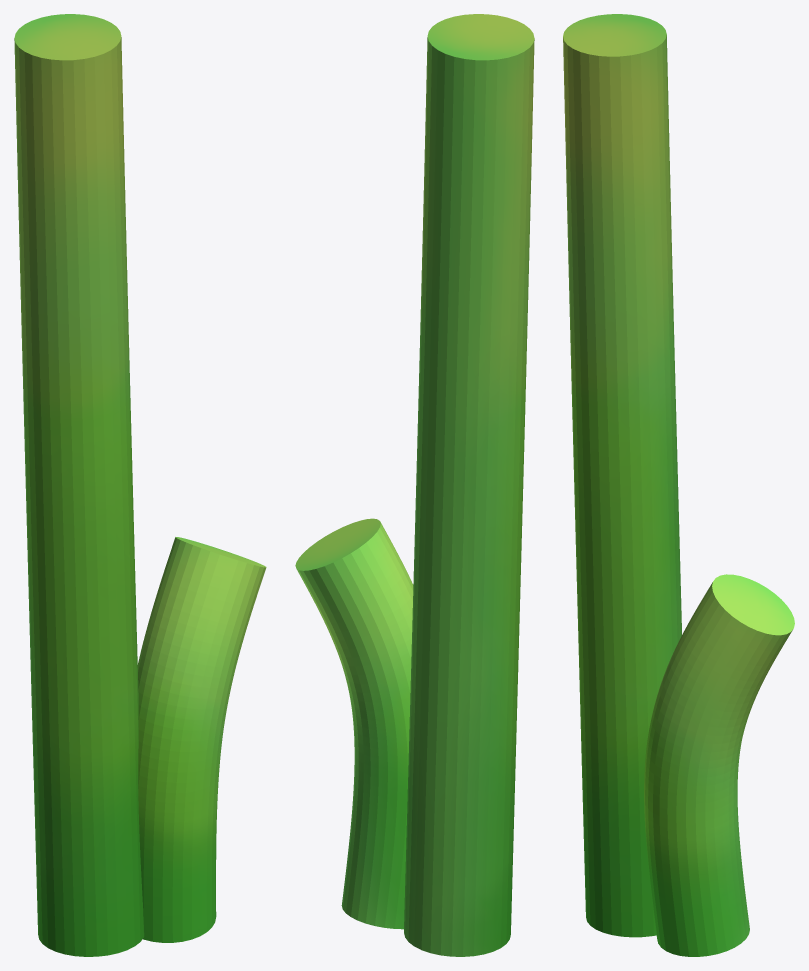
The model's file is frogTree.glb.
3 views of the same model, side by side, from view 1: azimuth 30°, elevation 25°; view 2: azimuth 150°, elevation 25°; view 3: azimuth 330°, elevation 25° (orthographic). The views are drawn at different scales.
Parts seen in each view (by area): view 1: Tube (×2); view 2: Tube (×2); view 3: Tube (×2).
Part boxes in pixels (x1,y1,x2,y2): Tube (×2): [14, 14, 266, 956]; Tube (×2): [295, 14, 534, 956]; Tube (×2): [563, 14, 794, 956].
Bounding box in the file's own units: 0.1769 × 0.6631 × 0.085.
